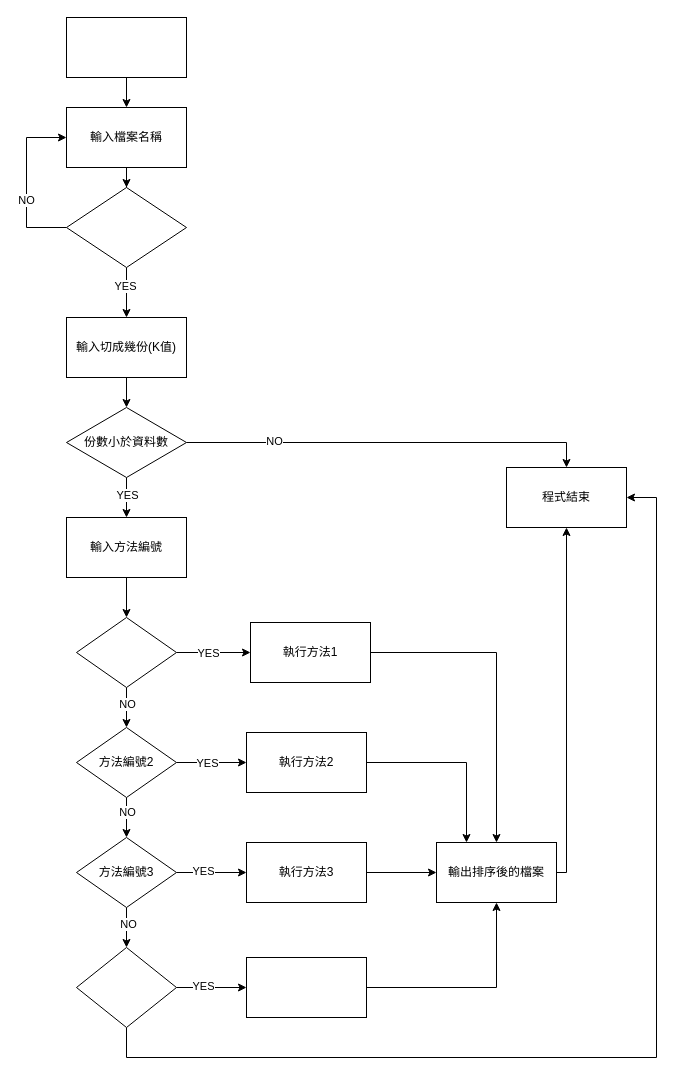
This 682x1083 diagram has some shape labels left out. Each missing label, with the centre of its shape:
"執行方法4" goes at [306,987].
"方法編號1" goes at [126,652].
"方法編號4" goes at [126,987].
"檔案存在" goes at [126,227].
"程式開始" goes at [126,47].
